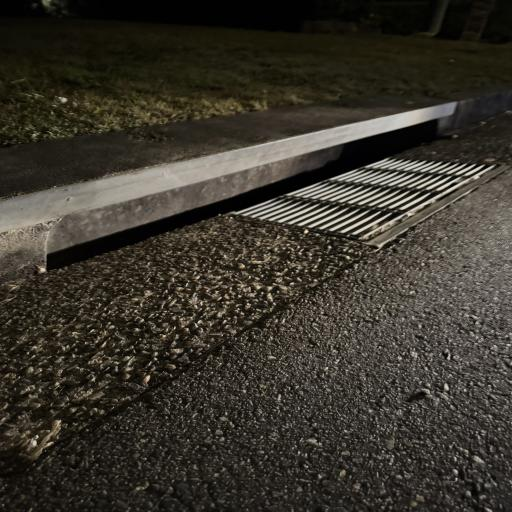gutter: (238, 158, 496, 240)
kerb: (0, 84, 512, 282)
